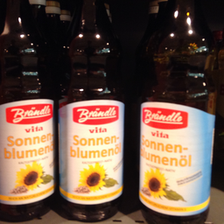oil: (131, 5, 219, 224), (56, 6, 129, 221), (1, 3, 57, 223)
